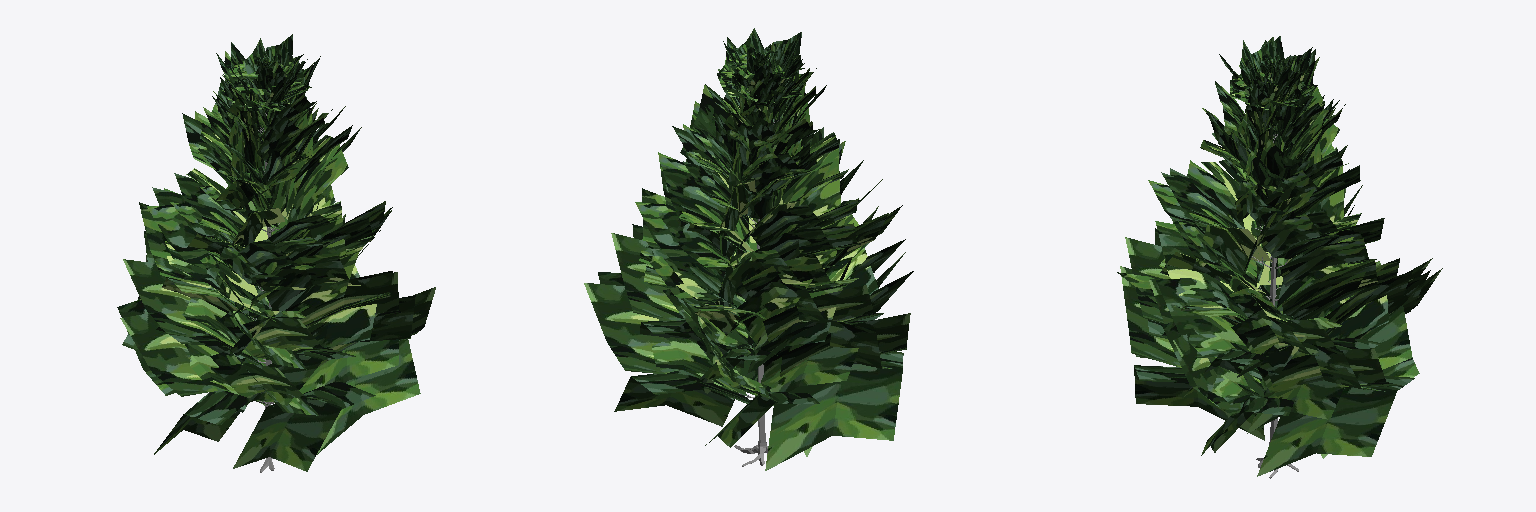
3 views of the same model, side by side, from view 1: azimuth 30°, elevation 25°; view 2: azimuth 150°, elevation 25°; view 3: azimuth 270°, elevation 25° (orthographic).
Visible parts, largest first — view 1: Bark___S; view 2: Bark___S; view 3: Bark___S.
Part boxes in pixels (x1,y1,x2,y2): Bark___S: (117, 34, 435, 472); Bark___S: (584, 28, 913, 470); Bark___S: (1117, 36, 1442, 478).
Size of the model in its own units: 8.88 by 12.76 by 9.02.
2 materials, 1 textured.